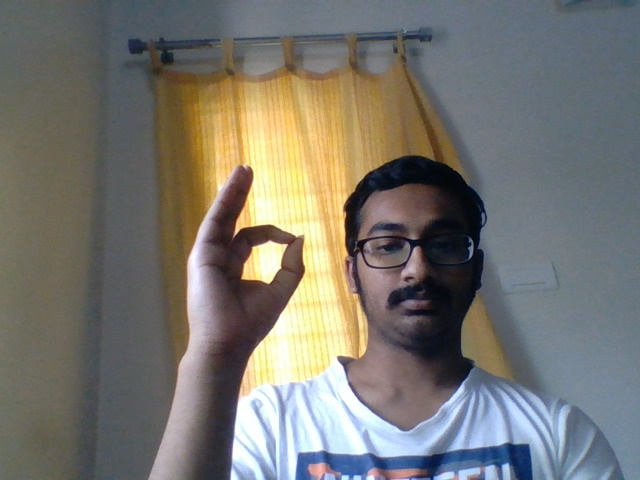hello: (159, 148, 324, 385)
